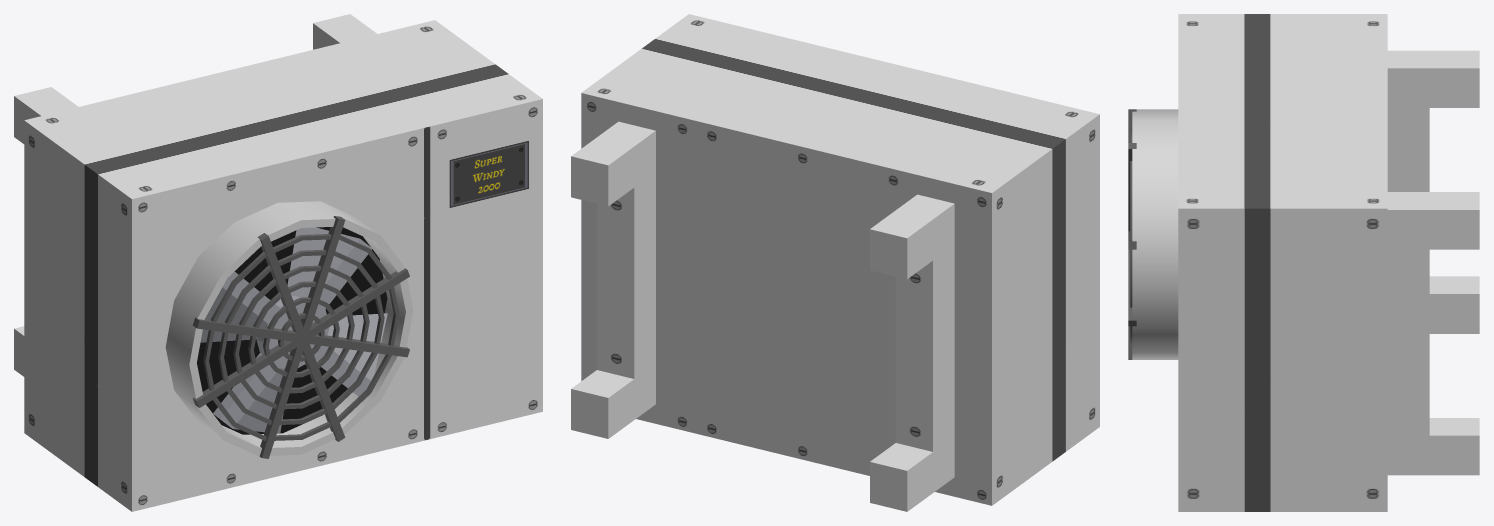
3 views of the same model, side by side, from view 1: azimuth 30°, elevation 25°; view 2: azimuth 150°, elevation 25°; view 3: azimuth 270°, elevation 25° (orthographic). The views are drawn at different scales.
Visible parts, largest first — view 1: Air_Conditioner2; view 2: Air_Conditioner2; view 3: Air_Conditioner2.
Part boxes in pixels (x1,y1,x2,y2): Air_Conditioner2: [14, 14, 542, 511]; Air_Conditioner2: [571, 14, 1099, 511]; Air_Conditioner2: [1128, 14, 1479, 511].
Bounding box in the file's own units: 550 × 400 × 420.
1 material, 1 textured.
